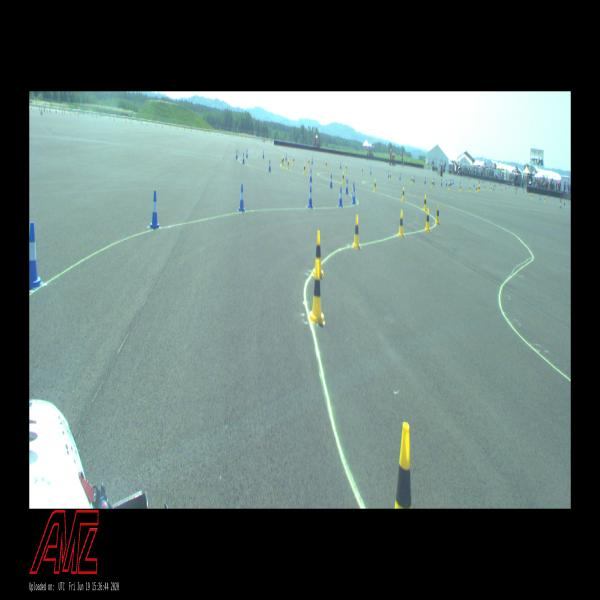blue_cone: (30, 222, 44, 290), (150, 190, 160, 228), (238, 184, 245, 211), (308, 186, 313, 208), (338, 186, 343, 206), (352, 185, 356, 204), (352, 182, 355, 199), (346, 178, 348, 194), (330, 173, 332, 188), (269, 159, 271, 172), (310, 169, 312, 182), (242, 153, 244, 163), (246, 149, 248, 157), (236, 150, 238, 158), (285, 153, 287, 161), (424, 176, 426, 183), (399, 173, 401, 180), (413, 175, 415, 182), (433, 178, 435, 185), (311, 157, 313, 164), (448, 179, 450, 186), (370, 168, 372, 174), (539, 194, 541, 200), (563, 199, 565, 205), (263, 150, 264, 158), (388, 170, 389, 178), (441, 179, 442, 186), (446, 179, 447, 186), (450, 179, 451, 186), (460, 179, 461, 186), (453, 178, 454, 184), (340, 162, 341, 168), (474, 181, 475, 187), (451, 179, 452, 185), (493, 186, 494, 190)
yellow_cone: (395, 423, 411, 508), (310, 260, 325, 324), (313, 231, 323, 278), (353, 215, 360, 249), (398, 210, 405, 238), (425, 208, 430, 232), (435, 205, 440, 224), (423, 194, 426, 211), (303, 163, 306, 174), (402, 186, 404, 201), (342, 171, 344, 184), (374, 179, 376, 192), (287, 158, 289, 169), (281, 157, 283, 166), (431, 179, 433, 188), (469, 184, 471, 192), (411, 176, 413, 184), (308, 158, 310, 166), (325, 161, 327, 169), (448, 182, 450, 190), (477, 186, 479, 193), (484, 184, 486, 190), (544, 196, 546, 202), (531, 193, 533, 199), (283, 155, 284, 165), (390, 172, 391, 181), (346, 164, 347, 172), (293, 157, 294, 165), (476, 186, 477, 193), (362, 167, 363, 174), (479, 184, 480, 191), (460, 185, 461, 191), (501, 187, 502, 193), (515, 190, 516, 196), (491, 186, 492, 191)
